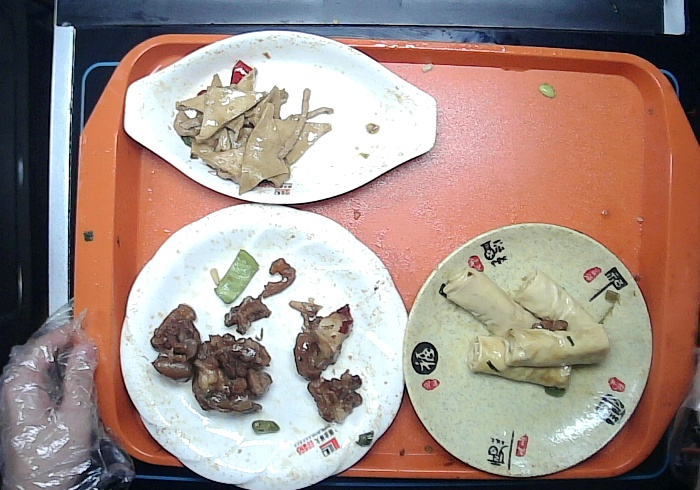NLDX-Bai_Zhe_Yuan_Pan: (117, 206, 406, 490)
NLDX-Fu_Zi_Yuan_Pan: (401, 222, 655, 479)
NLDX-Yu_Pan: (123, 30, 439, 208)
